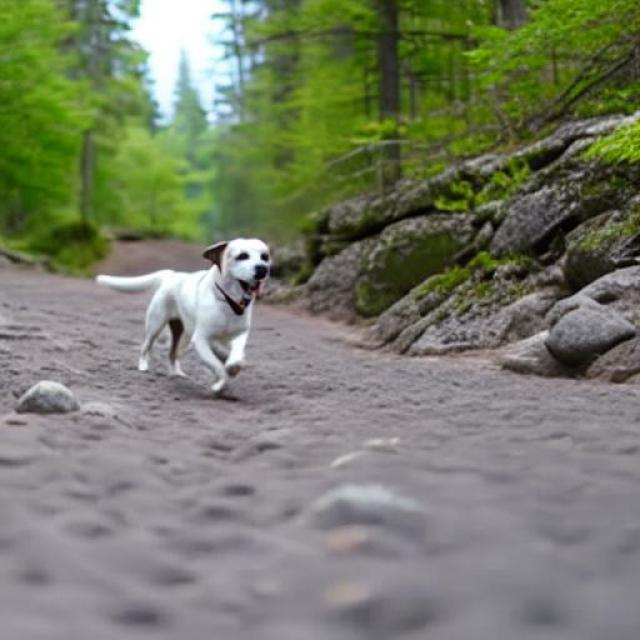Dog: (96, 238, 272, 394)
